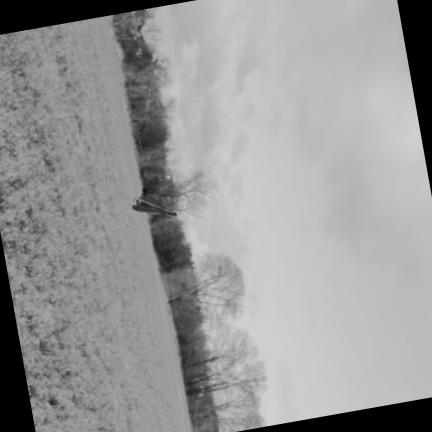Shahed: (132, 188, 176, 216)
